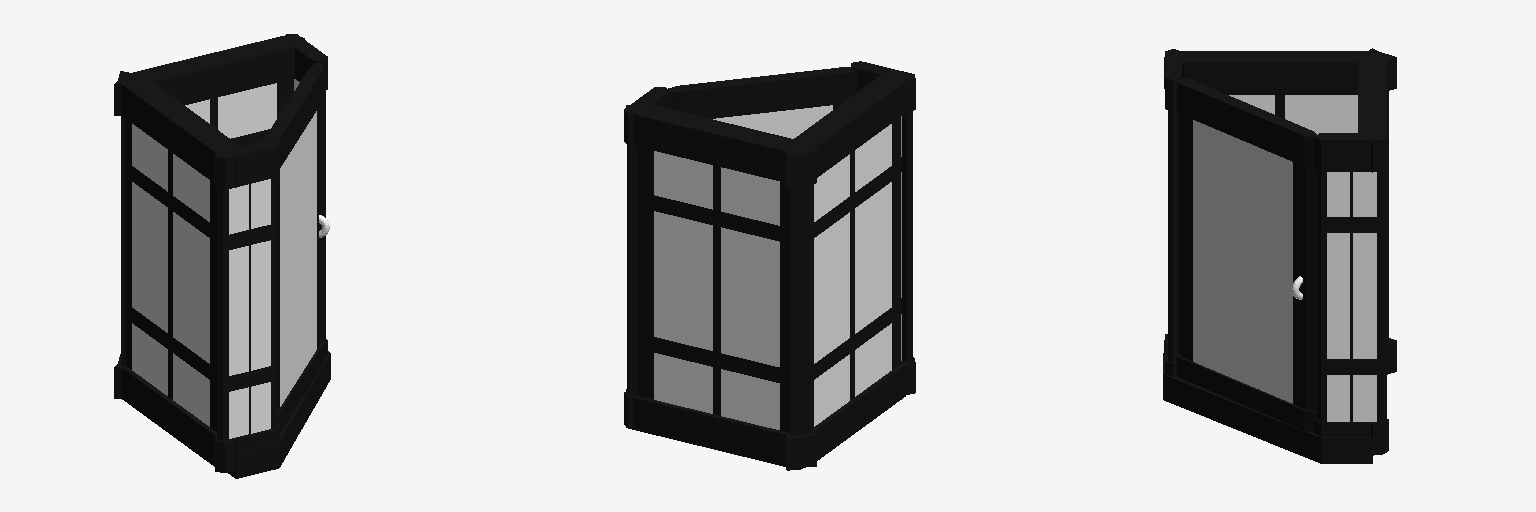
The model's file is Shower.obj.
3 views of the same model, side by side, from view 1: azimuth 30°, elevation 25°; view 2: azimuth 150°, elevation 25°; view 3: azimuth 270°, elevation 25° (orthographic).
Parts seen in each view (by area): view 1: mergedBlocks; view 2: mergedBlocks; view 3: mergedBlocks.
Boxes of the visible parts, x1,y1,x2,y2 form: mergedBlocks: [114, 34, 330, 478]; mergedBlocks: [624, 61, 915, 470]; mergedBlocks: [1163, 48, 1396, 463].
Size of the model in its own units: 1.55 by 2.5 by 1.64.